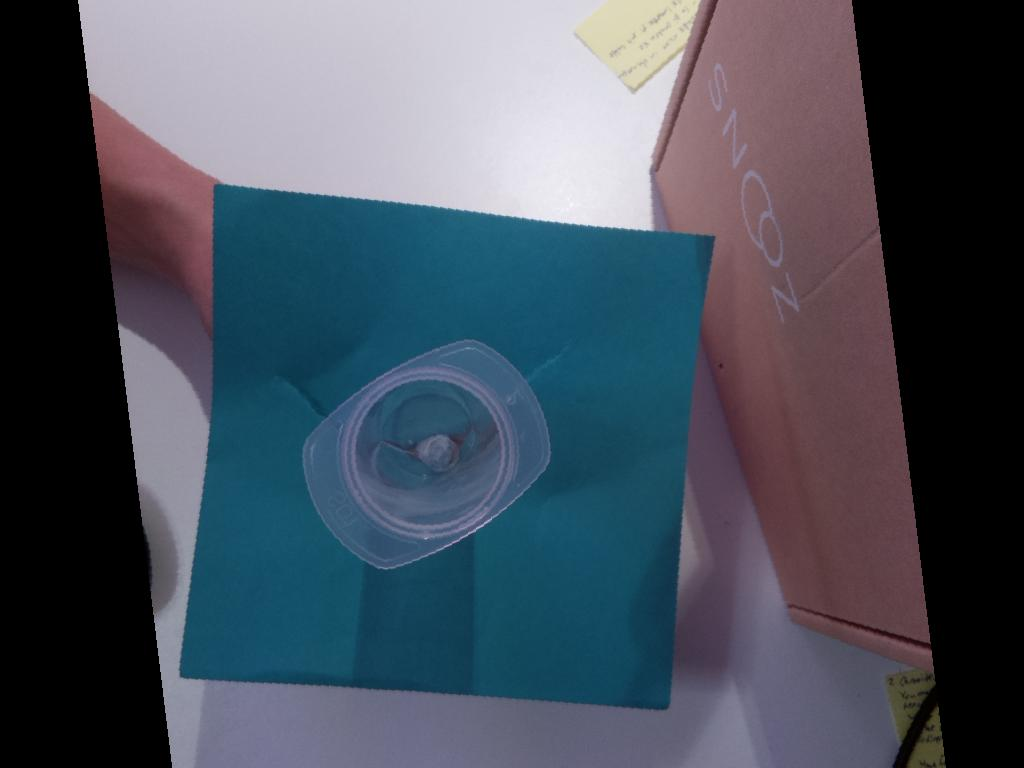clean: (291, 329, 560, 573)
